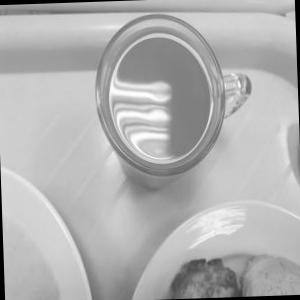coffee: (81, 15, 237, 181)
